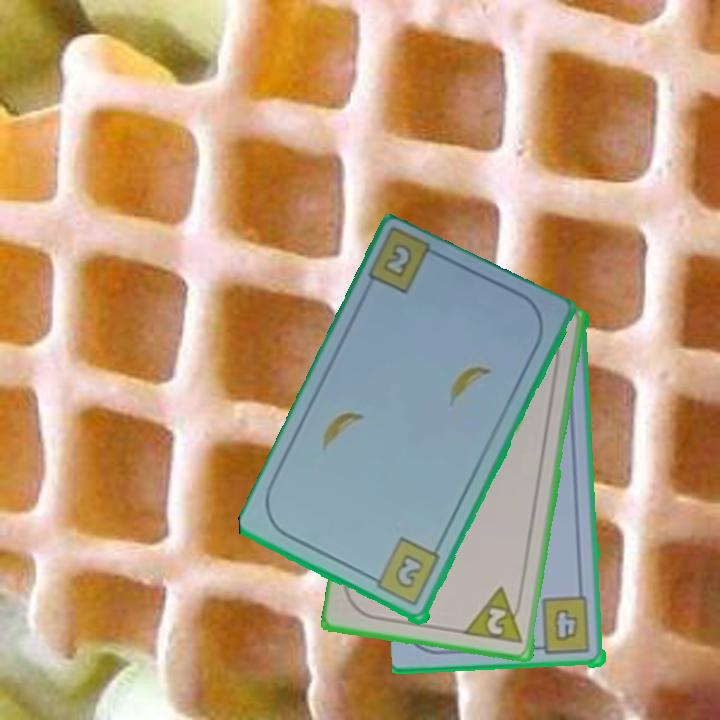2b: (366, 535, 443, 610), (383, 243, 413, 277)
2p: (462, 584, 527, 648)
4b: (532, 595, 594, 658)
